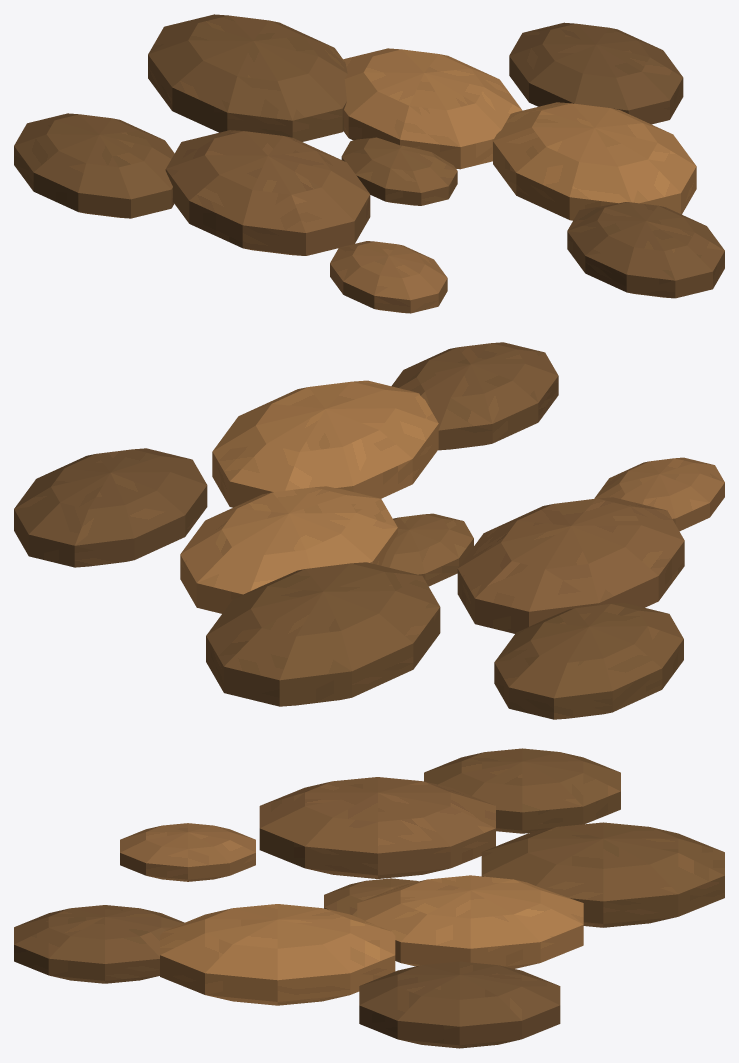
File: seed_chamomile.glb
The picture shows the model from 3 angles, top to bottom: view 1: azimuth 30°, elevation 25°; view 2: azimuth 150°, elevation 25°; view 3: azimuth 270°, elevation 25°; orthographic projection. The views are drawn at different scales.
Parts seen in each view (by area): view 1: block_grain 4, block_grain 2, block_grain 3, block_grain 1, block_grain 7, block_grain 6, block_grain 8, block_grain 5, block_grain 0; view 2: block_grain 4, block_grain 2, block_grain 3, block_grain 6, block_grain 7, block_grain 1, block_grain 8, block_grain 5, block_grain 0; view 3: block_grain 2, block_grain 3, block_grain 4, block_grain 1, block_grain 6, block_grain 7, block_grain 8, block_grain 5, block_grain 0.
Boxes of the visible parts, <box> form: block_grain 4: <box>148,14,347,141</box>; block_grain 2: <box>165,130,370,255</box>; block_grain 3: <box>493,102,696,220</box>; block_grain 1: <box>343,48,522,169</box>; block_grain 7: <box>14,113,174,218</box>; block_grain 6: <box>509,22,683,124</box>; block_grain 8: <box>567,202,724,298</box>; block_grain 5: <box>330,241,447,313</box>; block_grain 0: <box>341,137,457,205</box>; block_grain 4: <box>206,562,440,706</box>; block_grain 2: <box>457,497,684,633</box>; block_grain 3: <box>212,380,438,507</box>; block_grain 6: <box>14,448,207,567</box>; block_grain 7: <box>494,603,683,719</box>; block_grain 1: <box>180,486,397,613</box>; block_grain 8: <box>391,342,558,450</box>; block_grain 5: <box>594,457,724,531</box>; block_grain 0: <box>381,513,473,586</box>; block_grain 2: <box>259,777,495,878</box>; block_grain 3: <box>160,904,395,1005</box>; block_grain 4: <box>481,822,724,927</box>; block_grain 1: <box>357,875,583,968</box>; block_grain 6: <box>359,961,560,1048</box>; block_grain 7: <box>424,748,620,833</box>; block_grain 8: <box>14,905,184,983</box>; block_grain 5: <box>120,823,255,881</box>; block_grain 0: <box>324,878,418,916</box>.
Bounding box in the file's own units: 0.0202 × 0.00249 × 0.022.
1 material, 1 textured.
